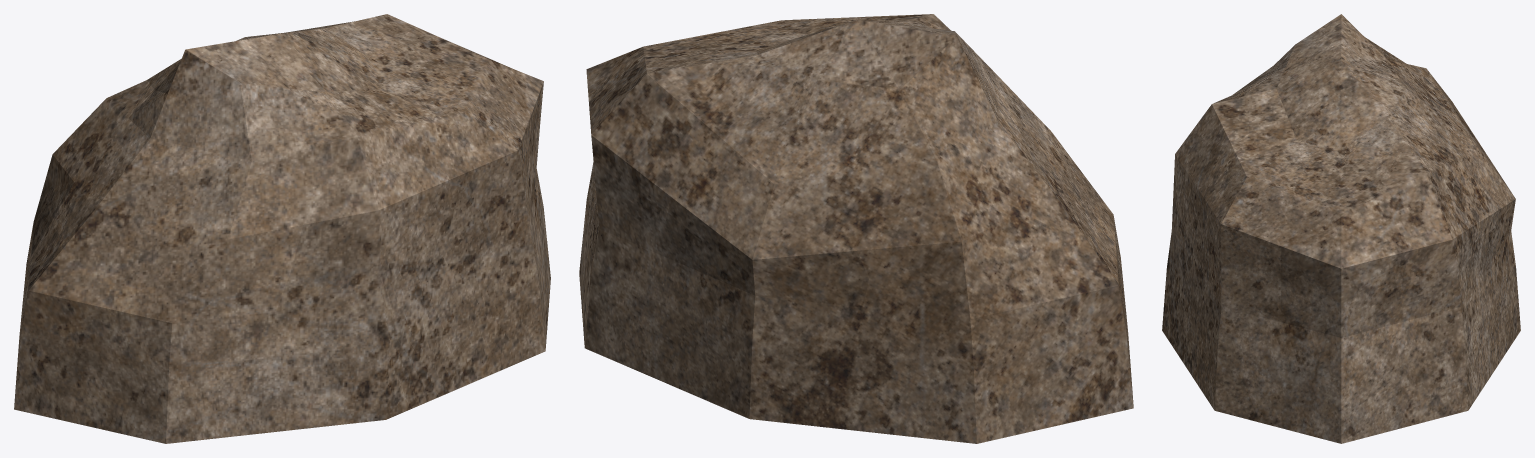
Rendered from rockGLB2.glb.
3 views of the same model, side by side, from view 1: azimuth 30°, elevation 25°; view 2: azimuth 150°, elevation 25°; view 3: azimuth 270°, elevation 25° (orthographic). The views are drawn at different scales.
Parts seen in each view (by area): view 1: rock2; view 2: rock2; view 3: rock2.
Boxes of the visible parts, x1=… form: rock2: x1=14, y1=14, x2=550, y2=443; rock2: x1=579, y1=14, x2=1133, y2=443; rock2: x1=1162, y1=14, x2=1520, y2=443.
Bounding box in the file's own units: 0.0573 × 0.0334 × 0.0383.
Materials: 1 (1 with a texture image).
